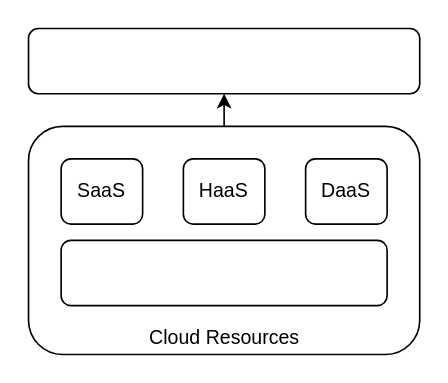
This 448x383 diagram has some shape labels left out. The centre of each missing label's shape, as x and y in pixels:
Application: point 223,60
IaaS: point 223,272
